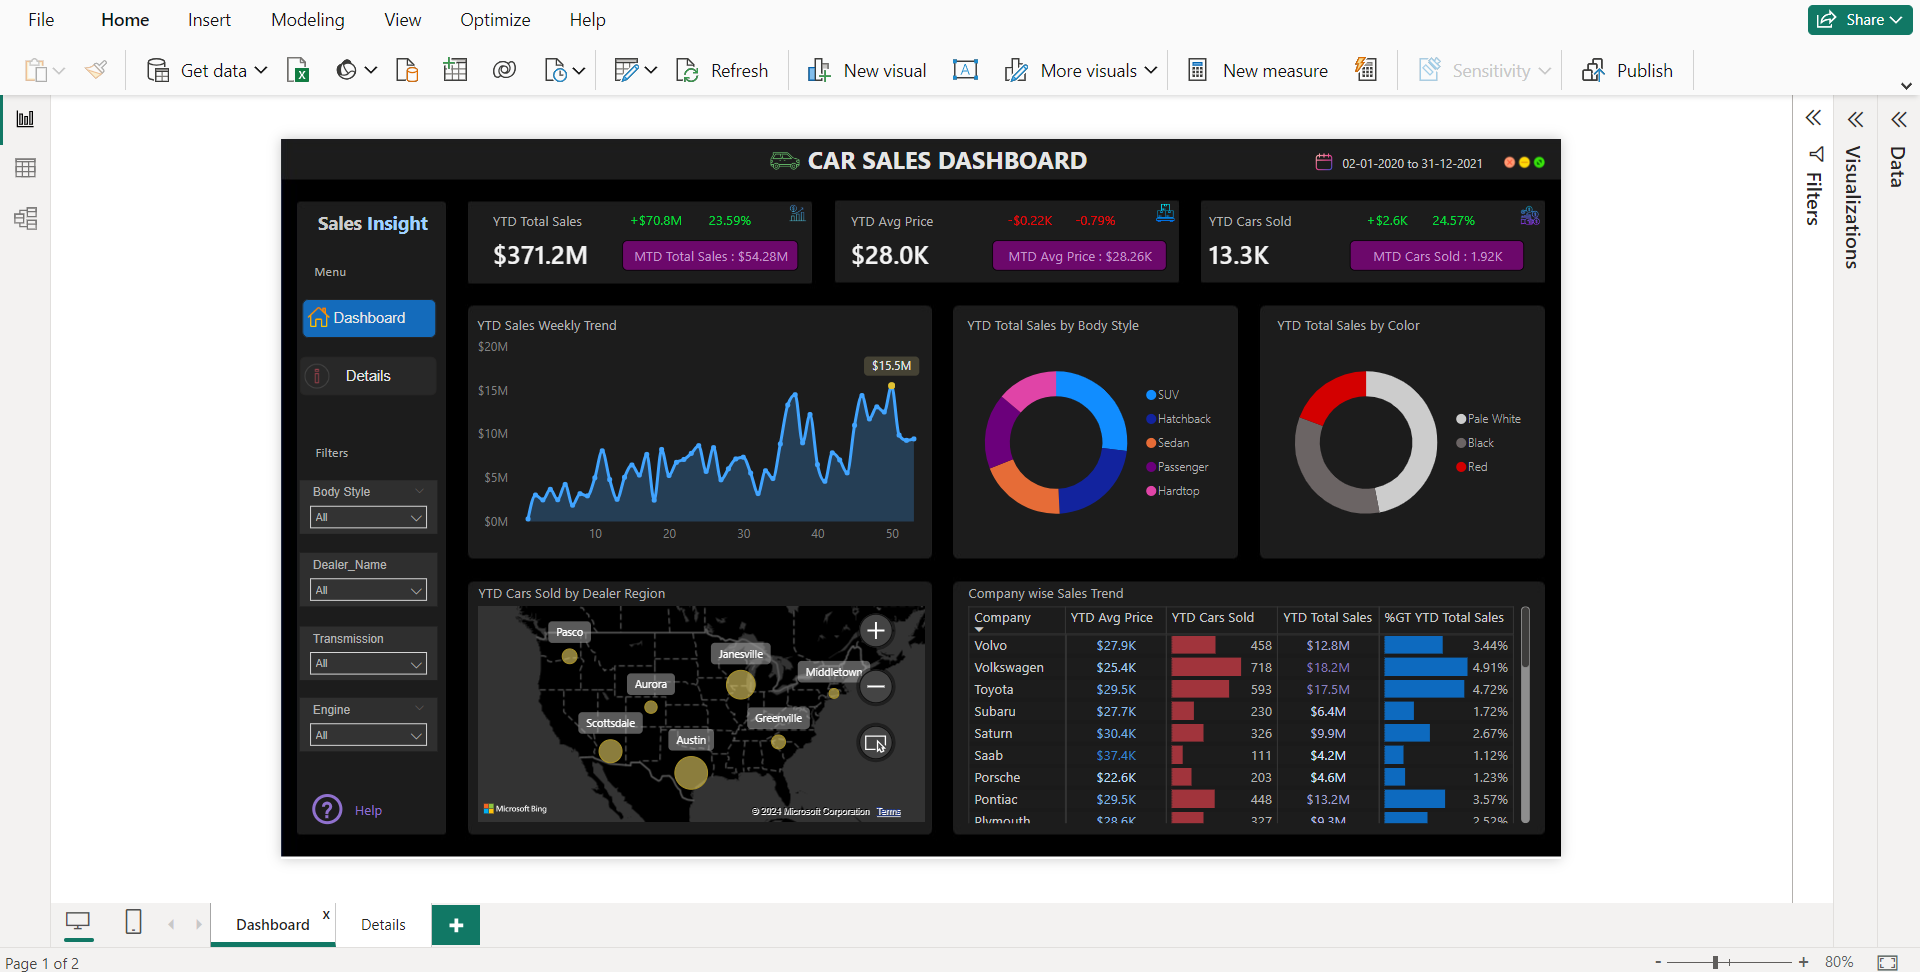

What the dashboard file says about the page in this screenshot:
{"tool":"powerbi","page":{"name":"Dashboard","canvas":[1280,720],"ordinal":0},"visuals":[{"type":"cardVisual","fields":{"Data":["Sheet1.YTD Total Price","Sheet1.YTD Avg Price","Sheet1.YTD Cars Sold"]},"box":[195.2,55.8,1059.7,83.7],"z":0},{"type":"image","box":[1205.9,0,74.6,46.6],"z":1000},{"type":"textbox","box":[514.7,0,303.3,44.2],"z":4000},{"type":"image","box":[469.4,0,68.6,44.2],"z":5000},{"type":"image","box":[870.2,59.1,29,31.1],"z":6000},{"type":"image","box":[498.5,60.4,36,27.9],"z":7000},{"type":"image","box":[1234.9,61.1,29,30],"z":8000},{"type":"card","fields":{"Values":["Sheet1.MTD Conc"]},"box":[340.8,101.5,176.1,30],"z":9000},{"type":"card","fields":{"Values":["Sheet1.MTD Avg Conc"]},"box":[710.7,101.5,174,30],"z":10000},{"type":"card","fields":{"Values":["Sheet1.MTD Cars Sold Conc"]},"box":[1069.1,101.5,174,30],"z":11000},{"type":"donutChart","fields":{"Category":["Sheet1.Body Style"],"Y":["Sheet1.YTD Total Sales"]},"box":[681.7,176.1,263.1,237.2],"z":12000},{"type":"card","fields":{"Values":["Sheet1.Measure"]},"box":[1047.4,12.4,168.9,26.9],"z":13000},{"type":"image","box":[1025.6,9.3,35.2,28],"z":14000},{"type":"donutChart","fields":{"Category":["Sheet1.Color"],"Y":["Sheet1.YTD Total Sales"]},"box":[991.4,176.1,263.1,237.2],"z":15000},{"type":"areaChart","title":"YTD Sales Weekly Trend","fields":{"Y":["Sum(Sheet1.Price ($))","Sheet1.Max Point on Trend Line"],"Category":["Calendar Table.Week"]},"box":[191.7,176.1,456.9,237.2],"z":16000},{"type":"pivotTable","title":"Company wise Sales Trend","fields":{"Rows":["Sheet1.Company"],"Values":["Sheet1.YTD Avg Price","Sheet1.YTD Cars Sold","Sheet1.YTD Total Sales1","Sheet1.YTD Total Sales"]},"box":[682.1,445,571.7,244],"z":17000},{"type":"card","fields":{"Values":["Sheet1.Diff and Icon"]},"box":[340.4,70.5,70.5,27.5],"z":18000},{"type":"card","fields":{"Values":["Sheet1.YOY Sales Growth"]},"box":[418.5,70.4,61.1,28],"z":19000},{"type":"card","fields":{"Values":["Sheet1.Avg Diff and Icon"]},"box":[710.7,70.5,75.3,27.5],"z":20000},{"type":"card","fields":{"Values":["Sheet1.YOY Avg Growth"]},"box":[783.6,70.5,60.9,27.5],"z":21000},{"type":"card","fields":{"Values":["Sheet1.Cars Diff and Icon"]},"box":[1069.1,70.5,75.3,27.5],"z":22000},{"type":"card","fields":{"Values":["Sheet1.YOY Cars Sold Growth"]},"box":[1143.1,70.5,60.9,27.5],"z":23000},{"type":"textbox","box":[17.9,65.9,148.5,44.7],"z":24000},{"type":"textbox","box":[17.9,117.1,63.3,29.9],"z":25000},{"type":"pageNavigator","box":[21.8,160.6,134.7,39.4],"z":26000},{"type":"image","box":[20.7,160.6,33.2,36.3],"z":27000},{"type":"image","box":[19,217.7,34.6,39.1],"z":28000},{"type":"pageNavigator","box":[19,217.7,137.3,39.1],"z":28500},{"type":"textbox","box":[18.6,298.4,64.2,30],"z":29000},{"type":"slicer","fields":{"Values":["Sheet1.Body Style"]},"box":[19.1,341.6,137.4,53.8],"z":30000},{"type":"slicer","fields":{"Values":["Sheet1.Dealer_Name"]},"box":[19.1,413.3,137.4,53.8],"z":31000},{"type":"slicer","fields":{"Values":["Sheet1.Transmission"]},"box":[19.1,487.3,137.4,53.8],"z":32000},{"type":"slicer","fields":{"Values":["Sheet1.Engine"]},"box":[19.1,559,137.4,53.8],"z":33000},{"type":"actionButton","box":[26.8,649.7,122.8,40.2],"z":34000},{"type":"map","title":"YTD Cars Sold by Dealer Region","fields":{"Category":["Sheet1.Dealer_Region"],"Size":["Sheet1.YTD Cars Sold"]},"box":[192,445,457,244],"z":35000}]}

Visuals, with their boxes on the page's 1280x720 design canvas (x1, y1, x2, y2). These are canvas units, not pixel positions in the 1920x972 screenshot, which may show the page scaled, cropped or inside an application window:
cardVisual - Sheet1.YTD Total Price x Sheet1.YTD Avg Price: <bbox>195, 56, 1255, 140</bbox>
image: <bbox>1206, 0, 1280, 47</bbox>
textbox: <bbox>515, 0, 818, 44</bbox>
image: <bbox>469, 0, 538, 44</bbox>
image: <bbox>870, 59, 899, 90</bbox>
image: <bbox>498, 60, 534, 88</bbox>
image: <bbox>1235, 61, 1264, 91</bbox>
card - Sheet1.MTD Conc: <bbox>341, 102, 517, 132</bbox>
card - Sheet1.MTD Avg Conc: <bbox>711, 102, 885, 132</bbox>
card - Sheet1.MTD Cars Sold Conc: <bbox>1069, 102, 1243, 132</bbox>
donutChart - Sheet1.Body Style x Sheet1.YTD Total Sales: <bbox>682, 176, 945, 413</bbox>
card - Sheet1.Measure: <bbox>1047, 12, 1216, 39</bbox>
image: <bbox>1026, 9, 1061, 37</bbox>
donutChart - Sheet1.Color x Sheet1.YTD Total Sales: <bbox>991, 176, 1254, 413</bbox>
"YTD Sales Weekly Trend" areaChart: <bbox>192, 176, 649, 413</bbox>
"Company wise Sales Trend" pivotTable: <bbox>682, 445, 1254, 689</bbox>
card - Sheet1.Diff and Icon: <bbox>340, 70, 411, 98</bbox>
card - Sheet1.YOY Sales Growth: <bbox>418, 70, 480, 98</bbox>
card - Sheet1.Avg Diff and Icon: <bbox>711, 70, 786, 98</bbox>
card - Sheet1.YOY Avg Growth: <bbox>784, 70, 844, 98</bbox>
card - Sheet1.Cars Diff and Icon: <bbox>1069, 70, 1144, 98</bbox>
card - Sheet1.YOY Cars Sold Growth: <bbox>1143, 70, 1204, 98</bbox>
textbox: <bbox>18, 66, 166, 111</bbox>
textbox: <bbox>18, 117, 81, 147</bbox>
pageNavigator: <bbox>22, 161, 156, 200</bbox>
image: <bbox>21, 161, 54, 197</bbox>
image: <bbox>19, 218, 54, 257</bbox>
pageNavigator: <bbox>19, 218, 156, 257</bbox>
textbox: <bbox>19, 298, 83, 328</bbox>
slicer - Sheet1.Body Style: <bbox>19, 342, 156, 395</bbox>
slicer - Sheet1.Dealer_Name: <bbox>19, 413, 156, 467</bbox>
slicer - Sheet1.Transmission: <bbox>19, 487, 156, 541</bbox>
slicer - Sheet1.Engine: <bbox>19, 559, 156, 613</bbox>
actionButton: <bbox>27, 650, 150, 690</bbox>
"YTD Cars Sold by Dealer Region" map: <bbox>192, 445, 649, 689</bbox>
